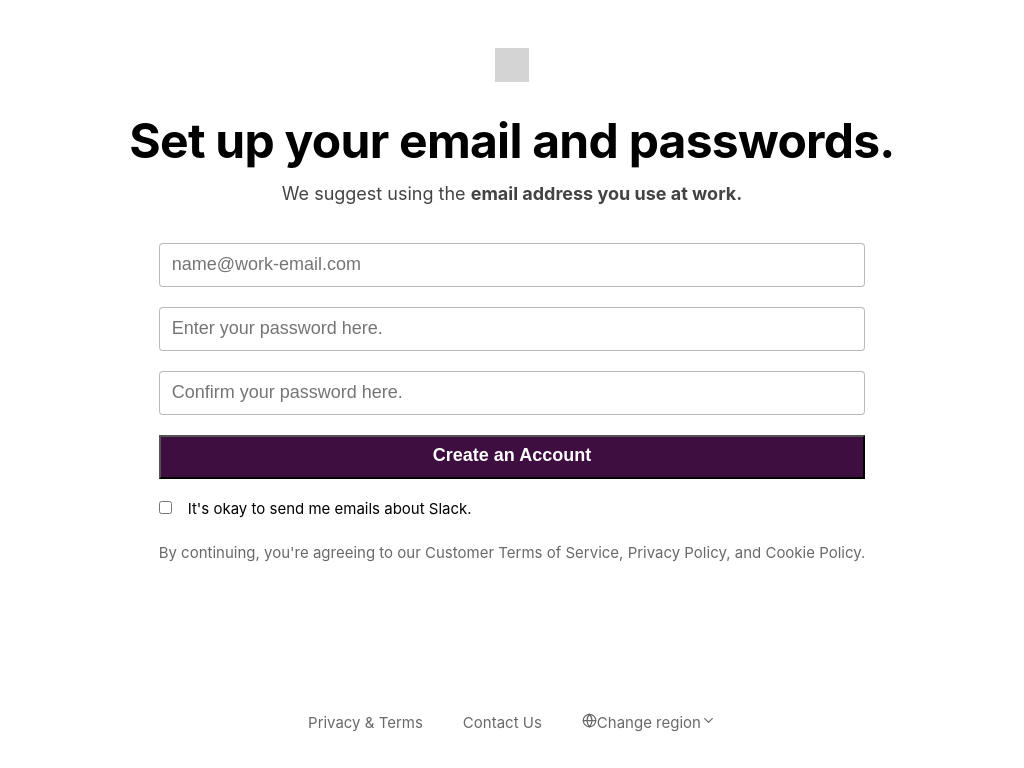
Test: Test for registering user › Reject POST request to return error
What coordinates should you click on to do the following:
click the button "Create an Account"
I would click on:
 (512, 457)
Its box is [159,435,865,479].
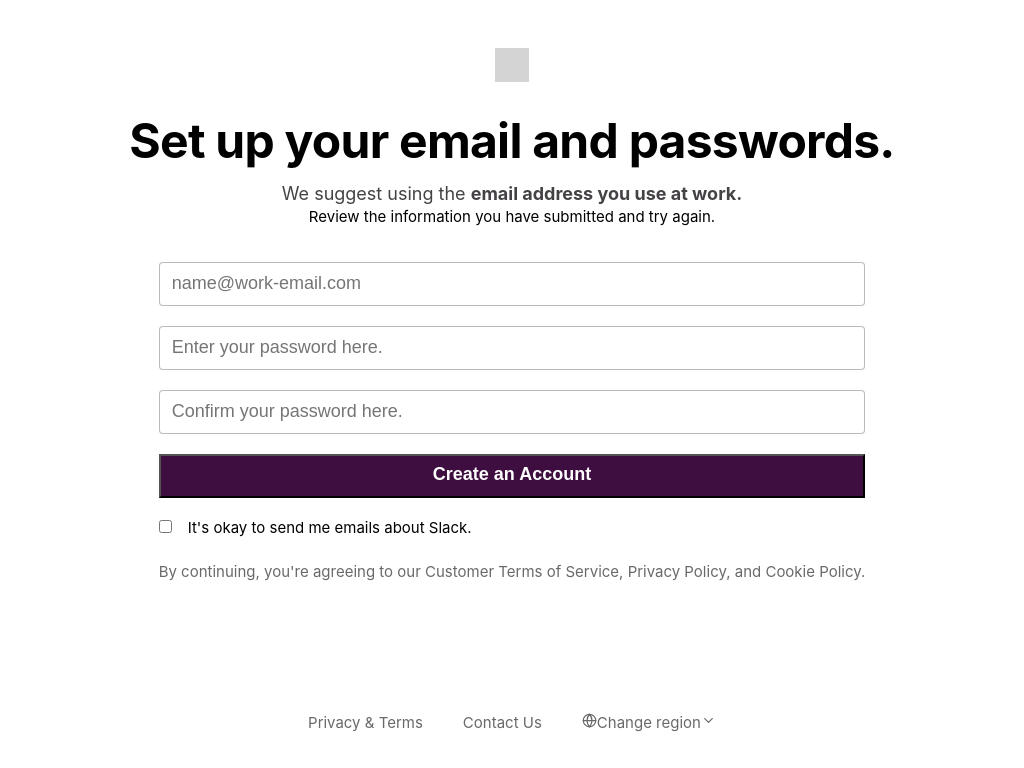
Now the text "Review the information you have submitted and try again." is shown, box [309,207,715,226]
